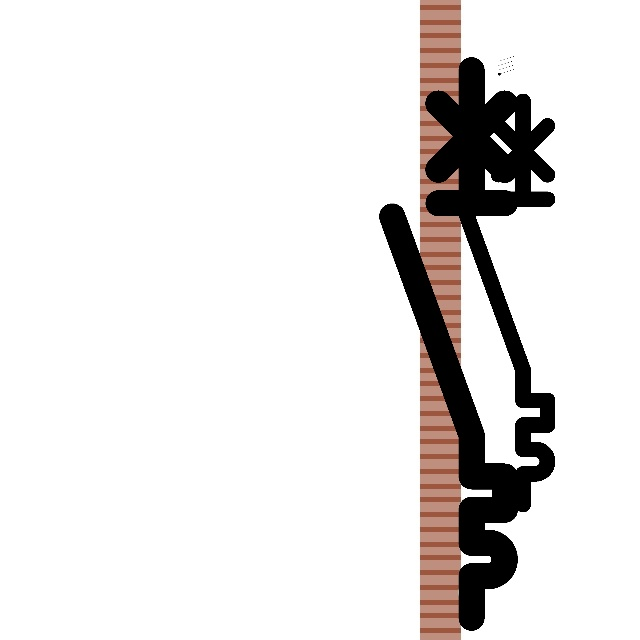interruptor_termomagnetico: (378, 56, 519, 632), (454, 90, 558, 514)
